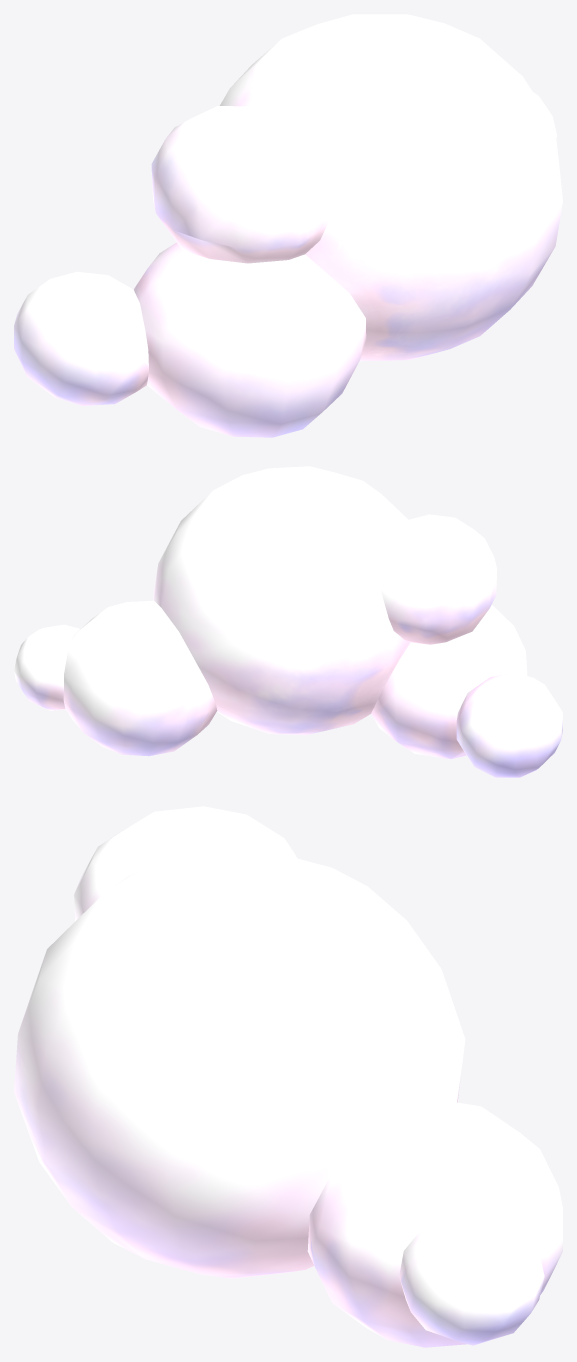
The model's file is cloudHorizontalElevator.glb.
3 views of the same model, one above another, from view 1: azimuth 30°, elevation 25°; view 2: azimuth 150°, elevation 25°; view 3: azimuth 270°, elevation 25° (orthographic). The views are drawn at different scales.
Parts seen in each view (by area): view 1: CloudB-CirclePath; view 2: CloudB-CirclePath; view 3: CloudB-CirclePath.
Part boxes in pixels (x1,y1,x2,y2): CloudB-CirclePath: [14, 14, 562, 437]; CloudB-CirclePath: [14, 466, 562, 777]; CloudB-CirclePath: [14, 806, 562, 1347].
Size of what is drawn, in the model's own units: 12.9 by 6.72 by 8.22.
1 material, 1 textured.
